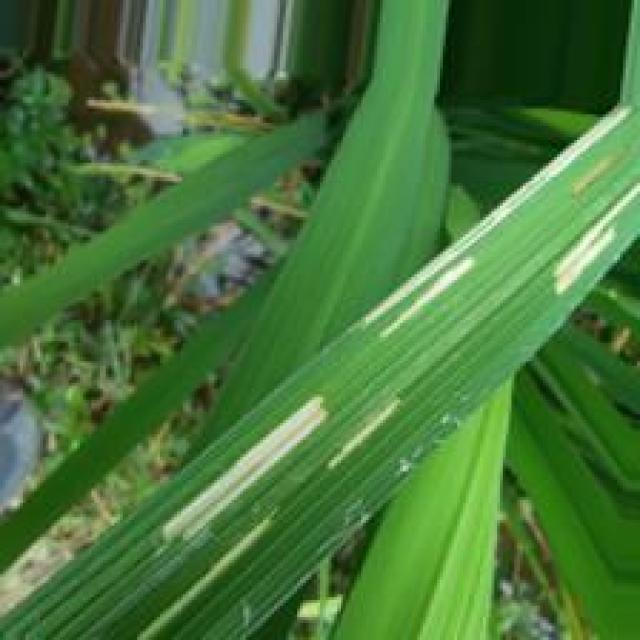Rice_Hispa: (355, 104, 640, 330), (162, 394, 329, 545), (136, 516, 285, 640), (550, 174, 640, 296), (386, 257, 480, 336), (323, 400, 406, 475)
